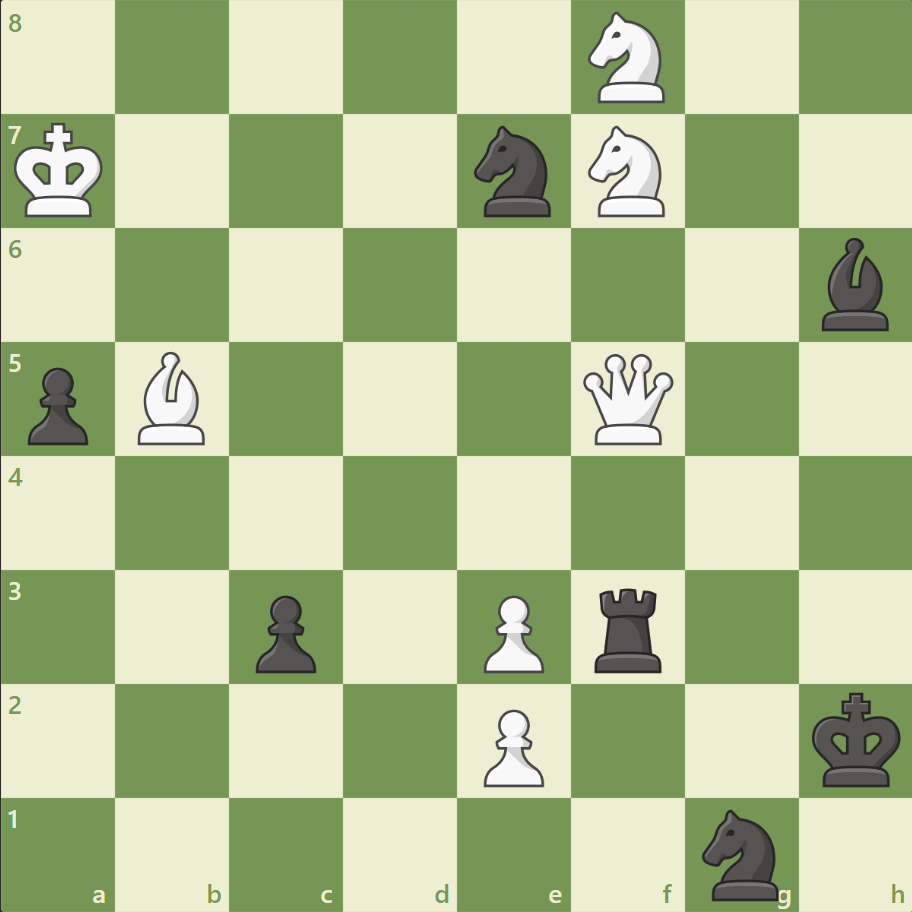B: (131, 347, 215, 449)
K: (11, 117, 111, 225)
N: (579, 7, 676, 110), (579, 121, 676, 223)
P: (474, 586, 549, 677), (474, 700, 549, 791)
Q: (578, 349, 677, 449)
b: (812, 233, 896, 336)
k: (806, 685, 906, 793)
n: (465, 121, 562, 223), (692, 802, 789, 904)
p: (20, 359, 95, 450), (247, 586, 322, 677)
r: (587, 579, 670, 676)
